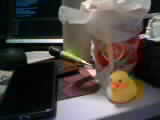duck: (98, 62, 134, 102)
